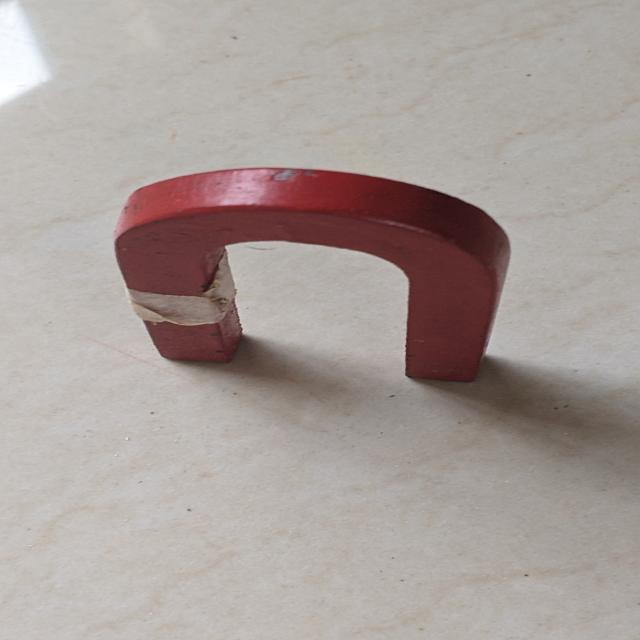Magnet: (84, 155, 539, 400)
